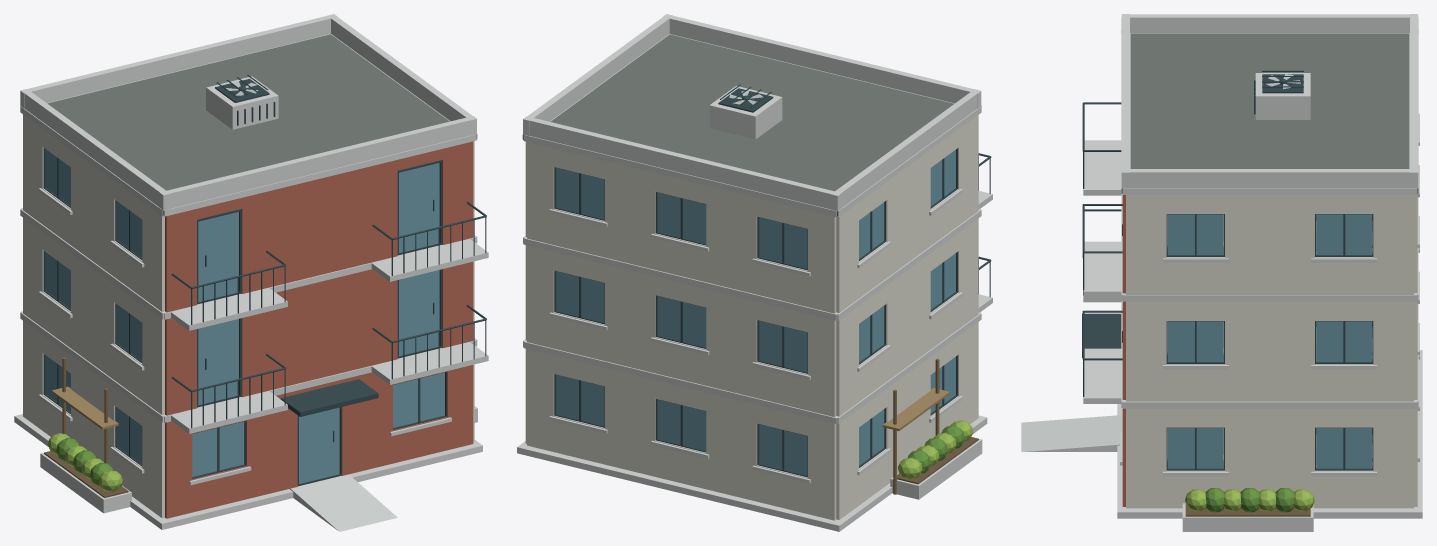
The model's file is apartment.glb.
3 renders of one model, left to right at view 1: azimuth 30°, elevation 25°; view 2: azimuth 150°, elevation 25°; view 3: azimuth 270°, elevation 25°, orthographic. The views are drawn at different scales.
Parts seen in each view (by area): view 1: Roof_mesh, FrontWall.002_mesh, FrontWall.001_mesh, FrontWall_mesh, SideWall.002_mesh, SideWall.004_mesh, SideWall_mesh, Windows_mesh, GardenUpgrade_mesh, BalconyDoor.003_mesh, FloorBands.002_mesh, BalconyDoor.002_mesh (+16 smaller); view 2: Roof_mesh, RearWall_mesh, RearWall.001_mesh, RearWall.002_mesh, SideWall.002_mesh, SideWall.004_mesh, Windows.001_mesh, Windows.002_mesh, Windows_mesh, SideWall_mesh, Foundation_mesh, GardenUpgrade_mesh (+5 smaller); view 3: Roof_mesh, SideWall.003_mesh, SideWall.005_mesh, SideWall.001_mesh, Windows_mesh, Windows.002_mesh, Windows.001_mesh, GardenUpgrade_mesh, EntranceRamp_mesh, Foundation_mesh, FloorBands.002_mesh, VentHousing_mesh (+6 smaller).
Boxes of the visible parts, x1,y1,x2,y2 form: Roof_mesh: (20,14,477,215); FrontWall.002_mesh: (165,141,473,312); FrontWall.001_mesh: (165,262,473,415); FrontWall_mesh: (165,365,473,518); SideWall.002_mesh: (23,217,164,414); SideWall.004_mesh: (23,114,164,311); SideWall_mesh: (23,321,164,518); Windows_mesh: (38,354,451,485); GardenUpgrade_mesh: (40,406,477,513); BalconyDoor.003_mesh: (397,160,442,255); FloorBands.002_mesh: (20,34,477,216); BalconyDoor.002_mesh: (197,209,241,304); Roof_mesh: (522,14,981,216); RearWall_mesh: (527,349,836,520); RearWall.001_mesh: (527,245,836,416); RearWall.002_mesh: (527,142,836,313); SideWall.002_mesh: (836,218,978,416); SideWall.004_mesh: (836,115,978,312); Windows.001_mesh: (549,252,962,380); Windows.002_mesh: (549,148,962,276); Windows_mesh: (549,355,962,483); SideWall_mesh: (836,322,978,519); Foundation_mesh: (517,415,987,531); GardenUpgrade_mesh: (890,420,982,499); Roof_mesh: (1121,14,1418,193); SideWall.003_mesh: (1126,301,1413,401); SideWall.005_mesh: (1126,195,1413,294); SideWall.001_mesh: (1126,408,1413,508); Windows_mesh: (1120,355,1419,476); Windows.002_mesh: (1163,113,1419,262); Windows.001_mesh: (1163,248,1419,369); GardenUpgrade_mesh: (1182,488,1314,531); EntranceRamp_mesh: (1021,415,1122,451); Foundation_mesh: (1117,350,1422,518); FloorBands.002_mesh: (1121,30,1418,194); VentHousing_mesh: (1254,70,1310,119).
Size of the model in its own units: 10.26 by 9.07 by 9.2.
